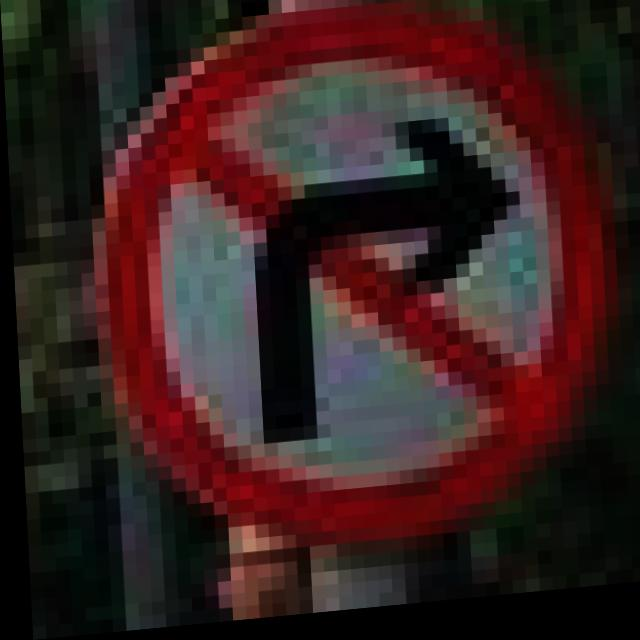RIGHT_TURN_PROHIBITED: (62, 0, 638, 585)
